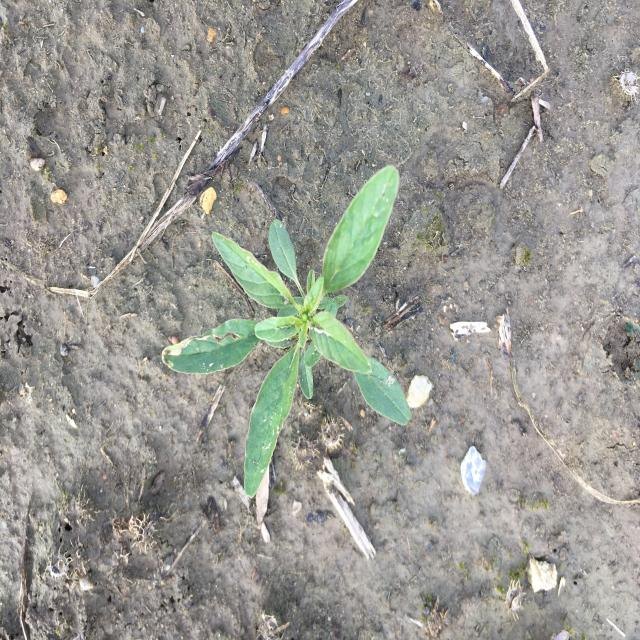Waterhemp: (160, 164, 414, 498)
